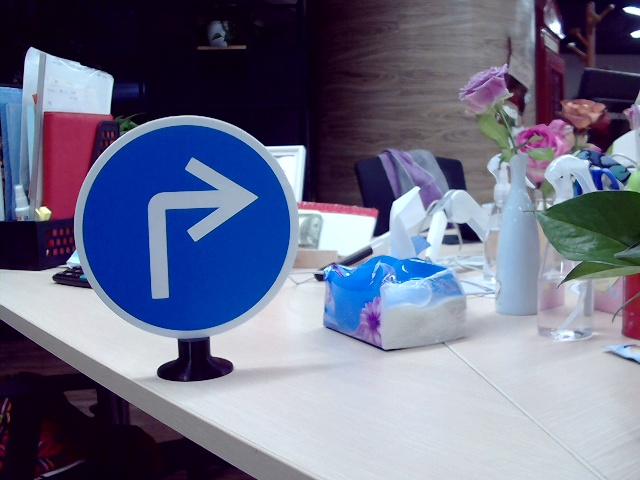turn_right: (138, 155, 259, 303)
